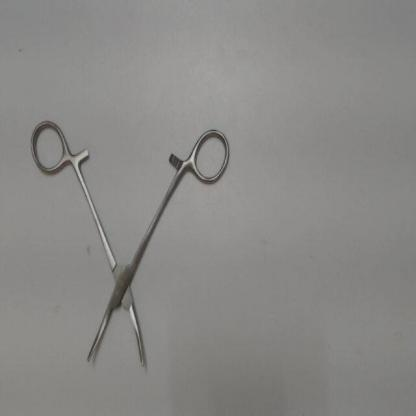Crile Artery Forceps: (16, 114, 235, 376)
